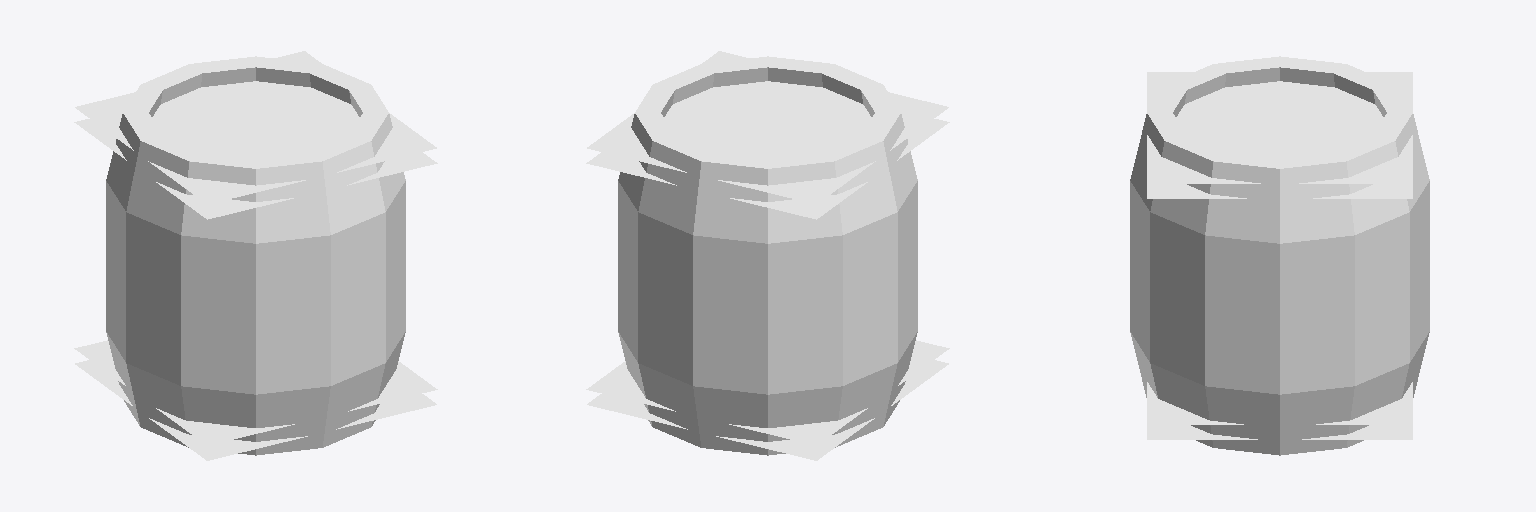
File: round_barrel.obj
3 renders of one model, left to right at view 1: azimuth 30°, elevation 25°; view 2: azimuth 150°, elevation 25°; view 3: azimuth 270°, elevation 25°, orthographic.
Visible parts, largest first — view 1: barrel, top, bottom; view 2: barrel, top, bottom; view 3: barrel, top, bottom.
Part boxes in pixels (bbox=[...]): barrel: bbox=[106, 56, 405, 455]; top: bbox=[74, 51, 437, 219]; bottom: bbox=[74, 340, 437, 460]; barrel: bbox=[618, 56, 917, 455]; top: bbox=[586, 51, 949, 219]; bottom: bbox=[586, 340, 949, 460]; barrel: bbox=[1130, 56, 1429, 455]; top: bbox=[1147, 72, 1412, 198]; bottom: bbox=[1147, 382, 1412, 439].
Size of the model in its own units: 1.12 by 1.19 by 1.12.